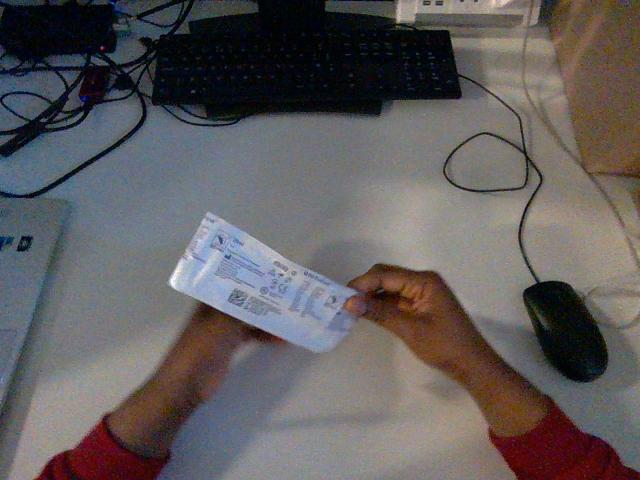syringe: (169, 213, 356, 351)
